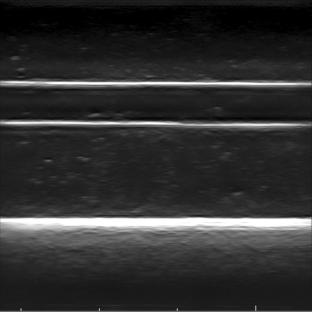vessel: (4, 79, 308, 129)
